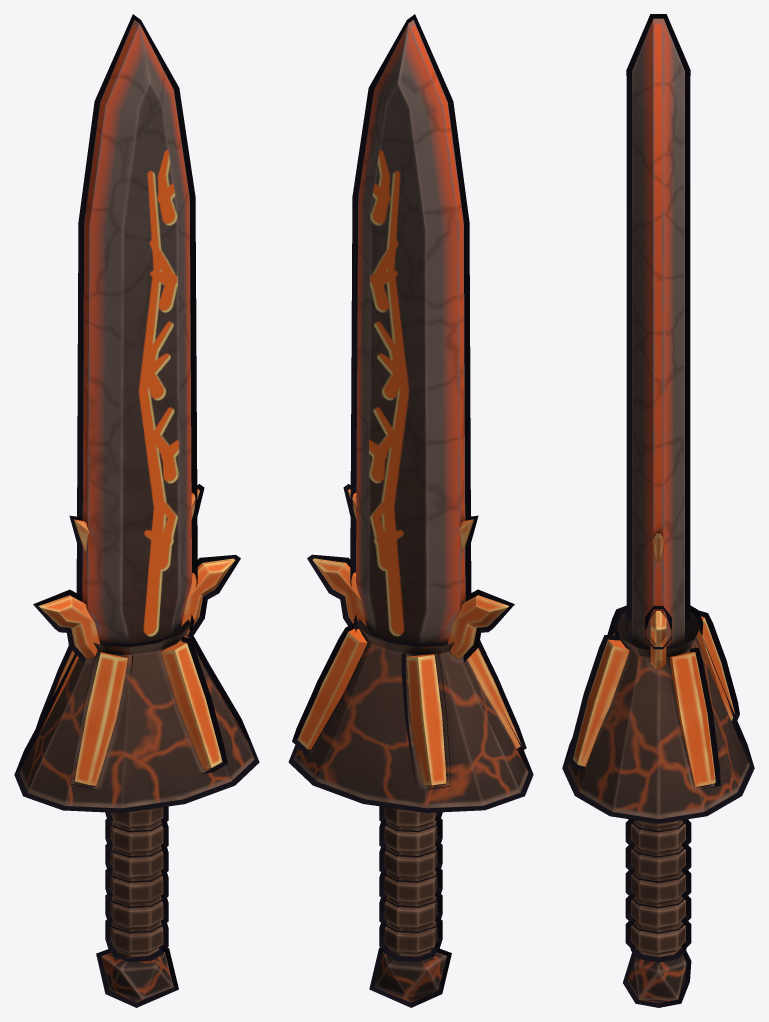
The model's file is VolcanoSword.fbx.
3 renders of one model, left to right at view 1: azimuth 30°, elevation 25°; view 2: azimuth 150°, elevation 25°; view 3: azimuth 270°, elevation 25°, orthographic.
Parts seen in each view (by area): view 1: VolcanoSword, VolcanoSwordOutline, VolcanoSwordLavaGlow; view 2: VolcanoSword, VolcanoSwordOutline, VolcanoSwordLavaGlow; view 3: VolcanoSword, VolcanoSwordOutline, VolcanoSwordLavaGlow.
Part boxes in pixels (bbox=[...]): VolcanoSword: bbox=[19, 20, 254, 1002]; VolcanoSwordOutline: bbox=[14, 14, 259, 1007]; VolcanoSwordLavaGlow: bbox=[38, 489, 235, 785]; VolcanoSword: bbox=[293, 20, 528, 1002]; VolcanoSwordOutline: bbox=[288, 14, 533, 1007]; VolcanoSwordLavaGlow: bbox=[297, 489, 521, 785]; VolcanoSword: bbox=[567, 18, 749, 1002]; VolcanoSwordOutline: bbox=[562, 14, 754, 1007]; VolcanoSwordLavaGlow: bbox=[573, 533, 734, 786].
Bounding box in the file's own units: 99.94 × 415 × 72.87.
Materials: 2 (1 with a texture image).
